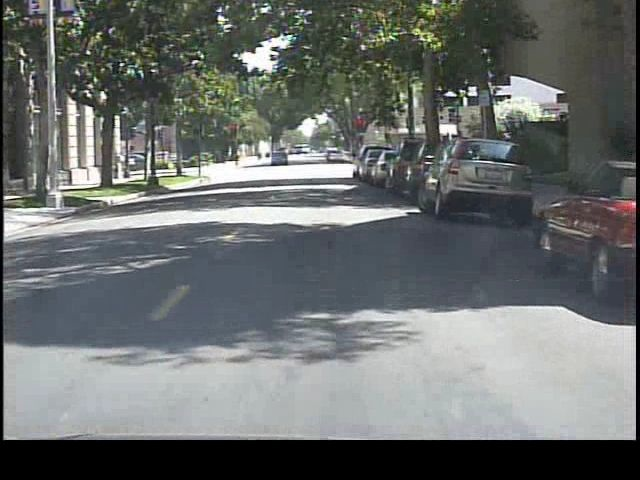person: (232, 146, 243, 169)
